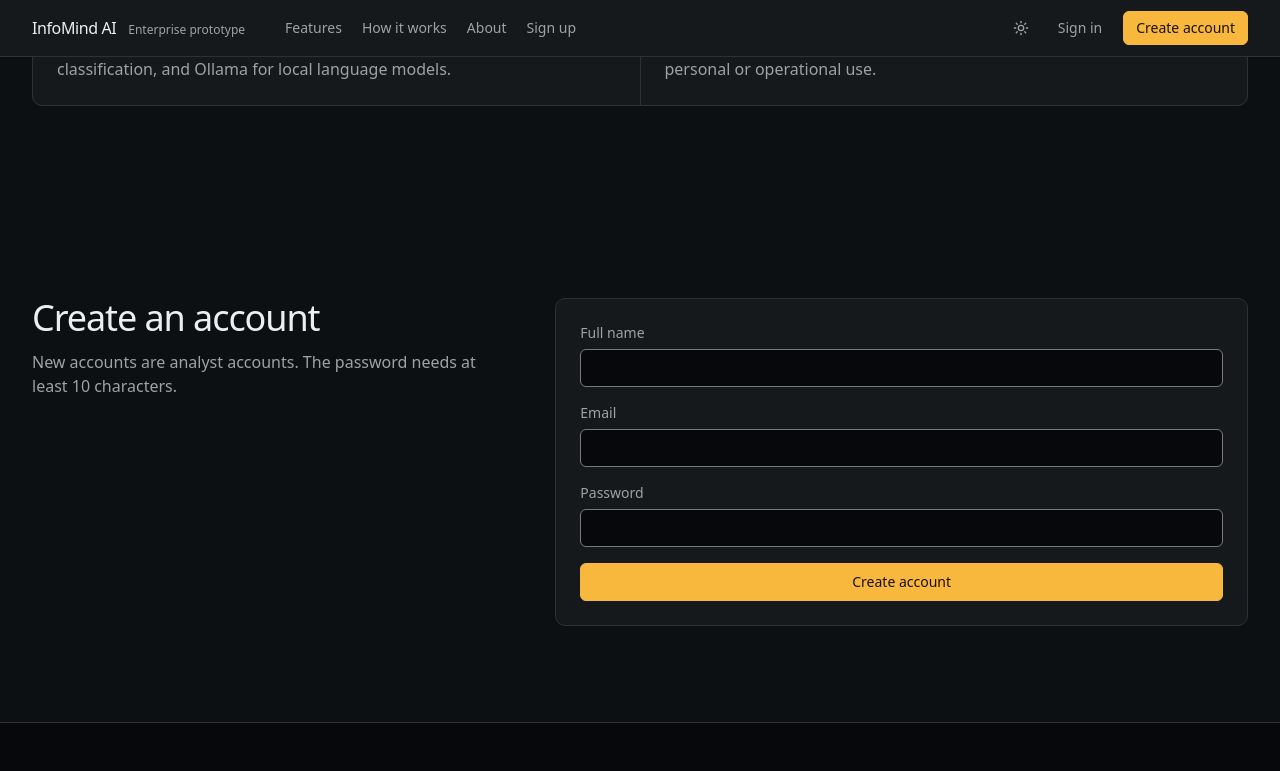
Scenario: a server refusal is shown in the form
(page scrolled)
In the field labelled "Email": (902, 448) [580,429,1223,467], type "a@b.co"
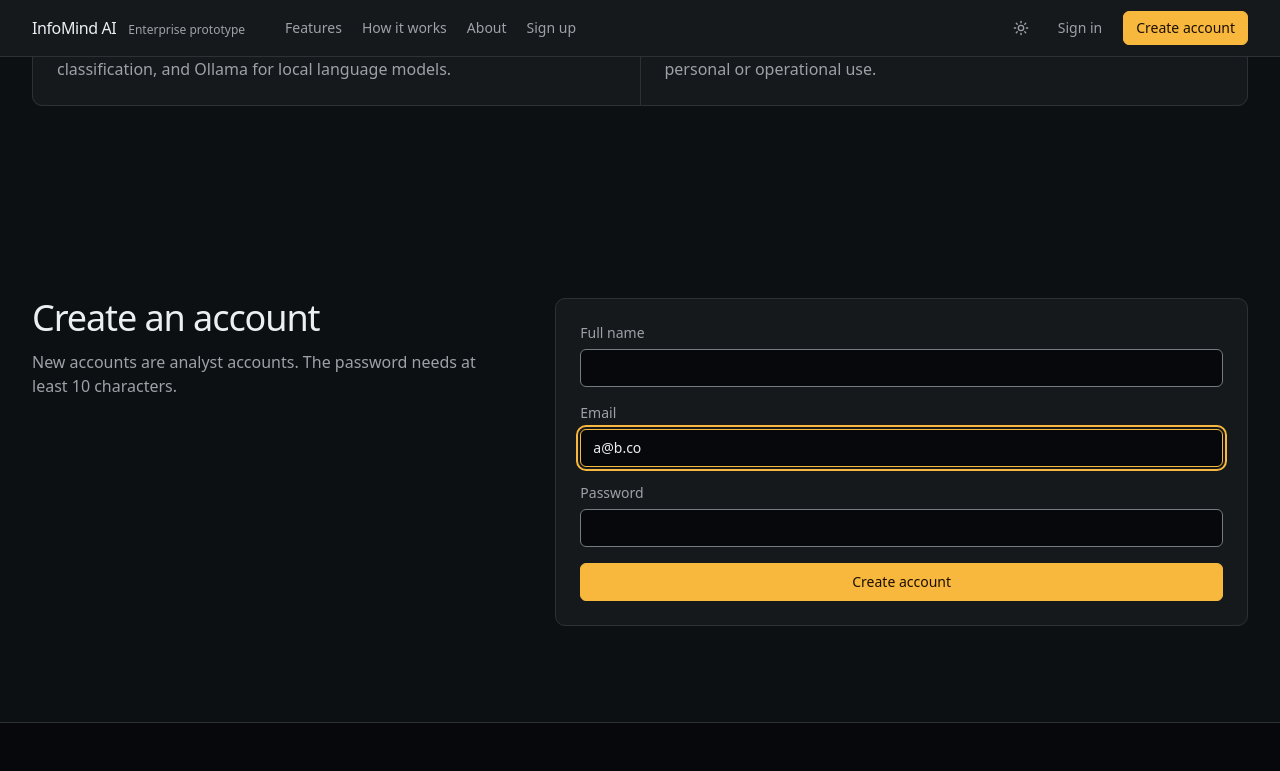
In the password field labelled "Password": (902, 528) [580,509,1223,547], type "a-long-password"
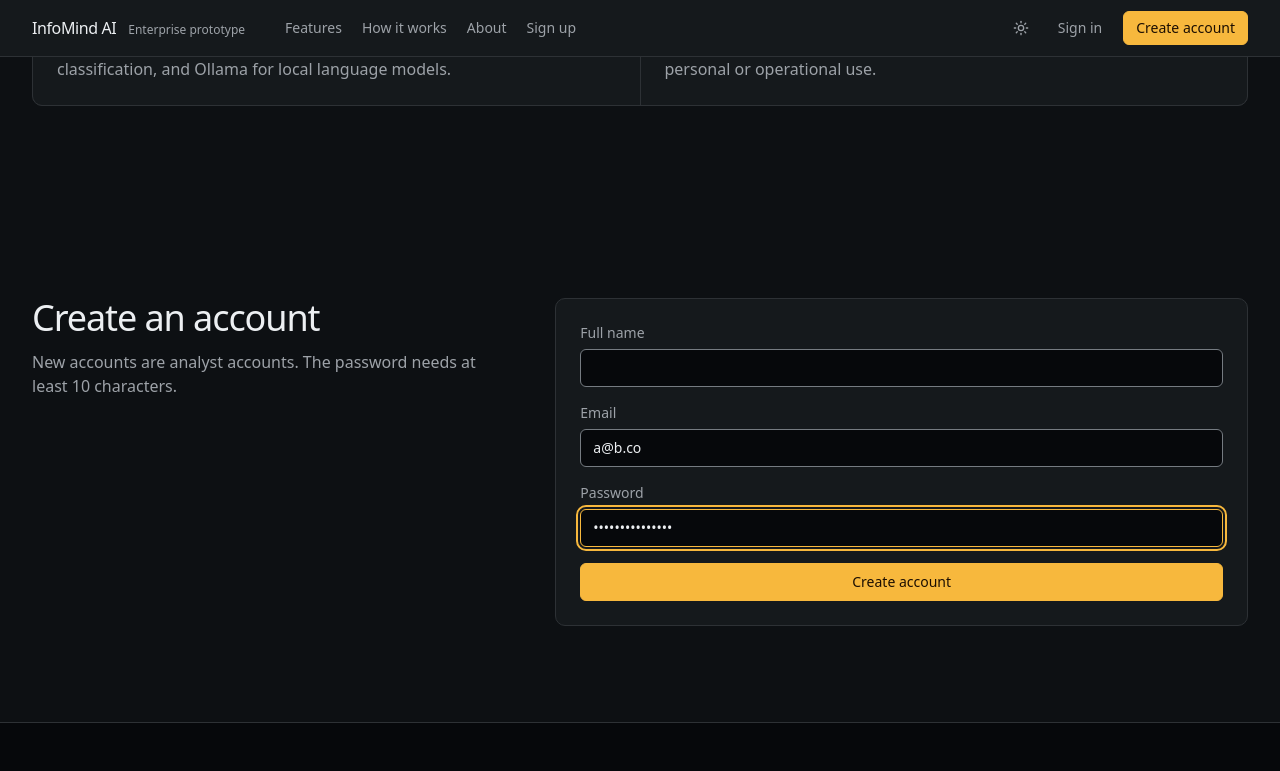
Click the button "Create account": (902, 582) [580,563,1223,601]
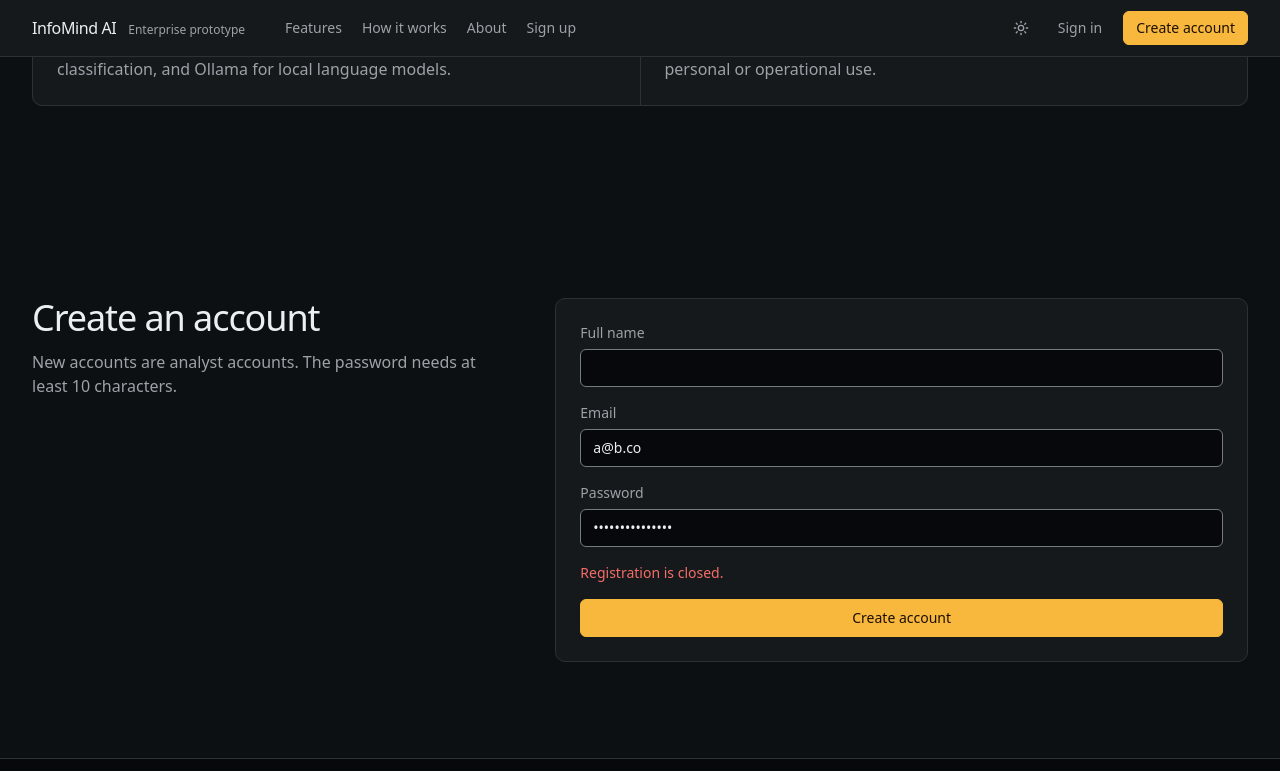
Expected: the message reads "Registration is closed.", [580,563,723,582]
